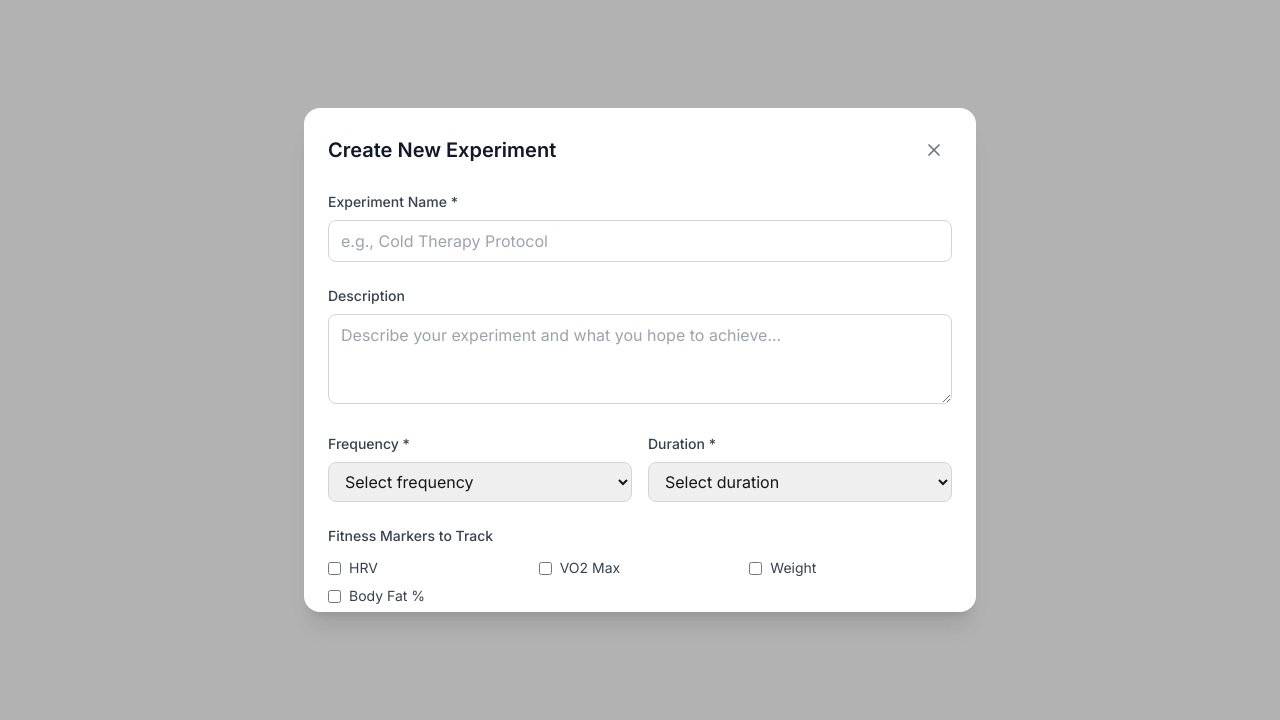
it: AddExperimentModal › validates required fields - frequency
The width and height of the screenshot is (1280, 720).
Type "Test Experiment" into the field labelled "Experiment Name *". click: [640, 241]
box: [328,220,952,262]
(page scrolled)
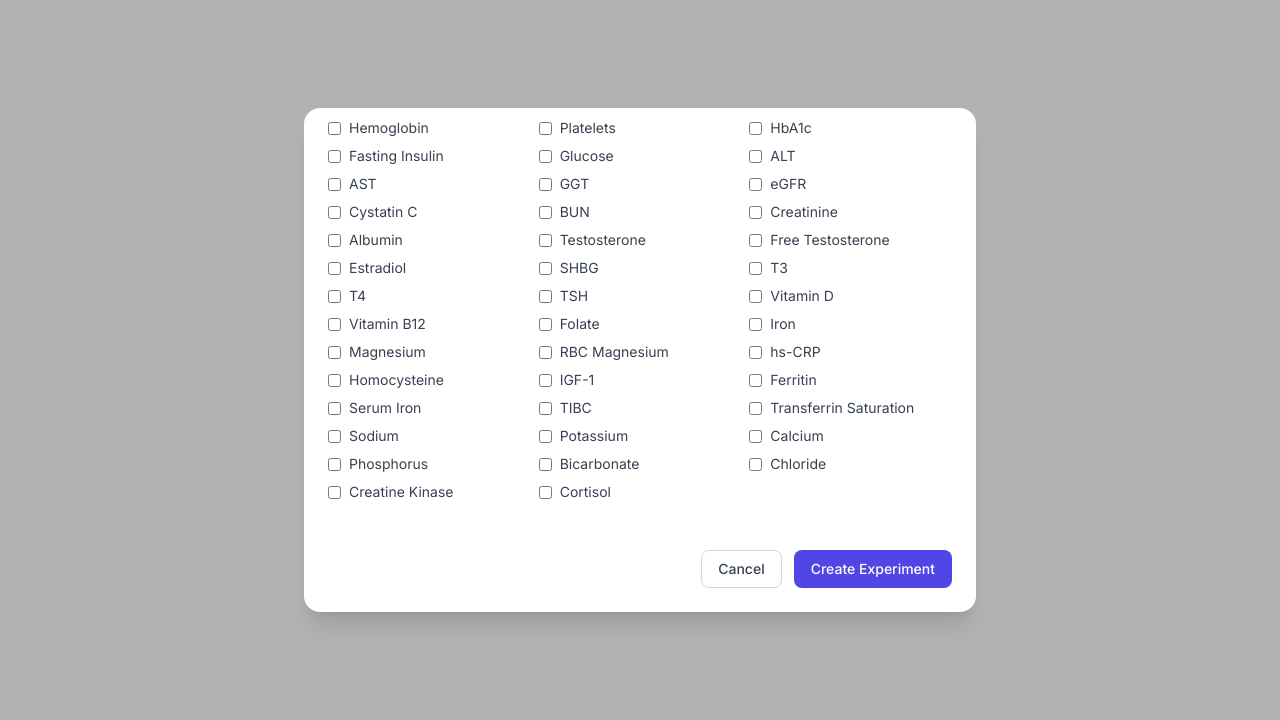
Click the button "Create Experiment". click: [873, 569]
box: [794,550,952,588]
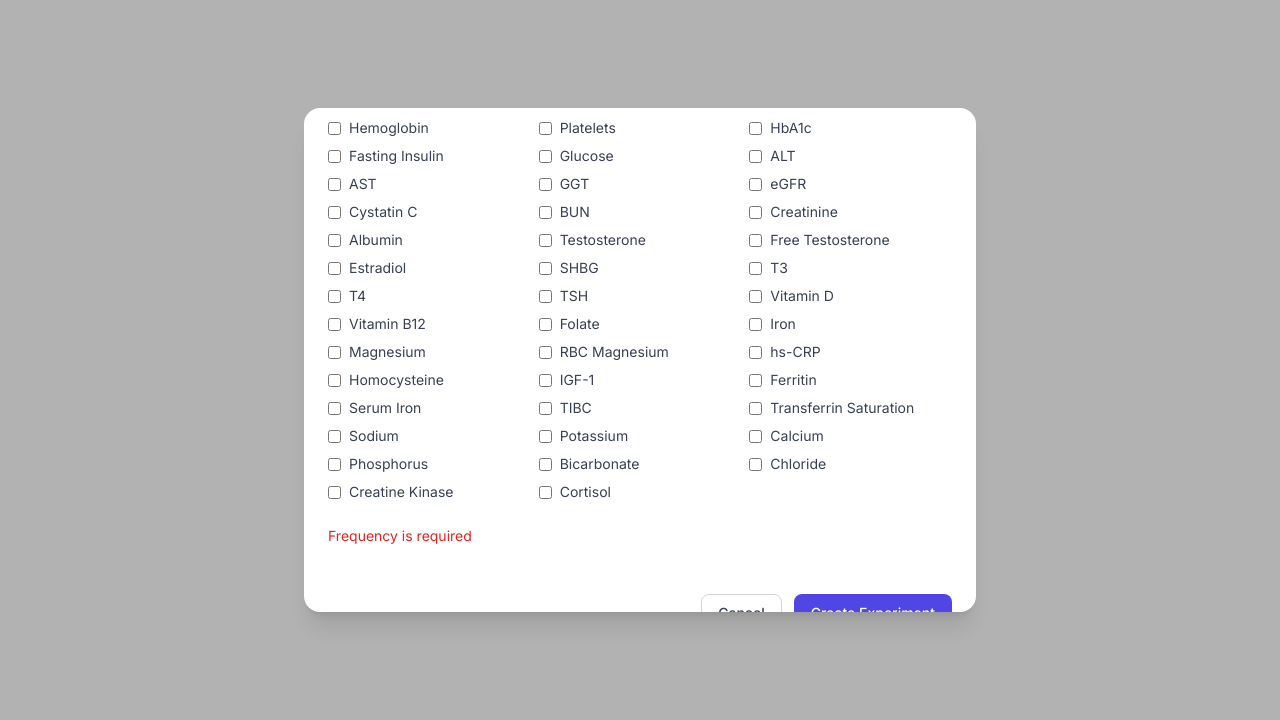
Check: the text "Frequency is required" is shown, box [328,527,472,544]
